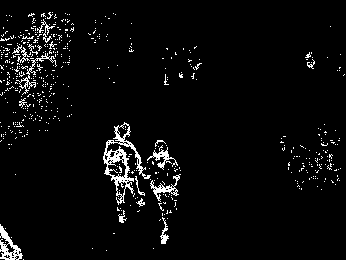person: (103, 121, 145, 222), (143, 138, 182, 246)
